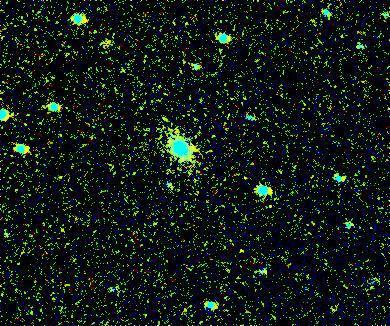star: (91, 28, 121, 58)
